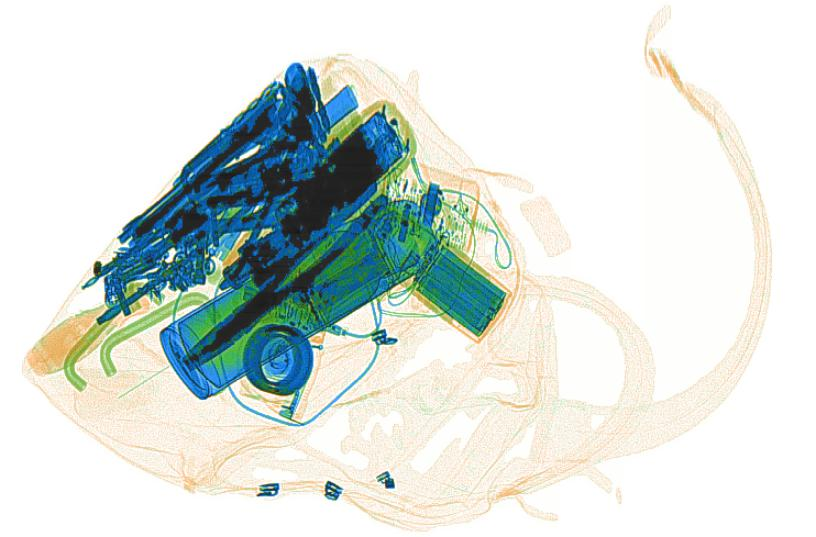battery: (413, 244, 509, 337)
